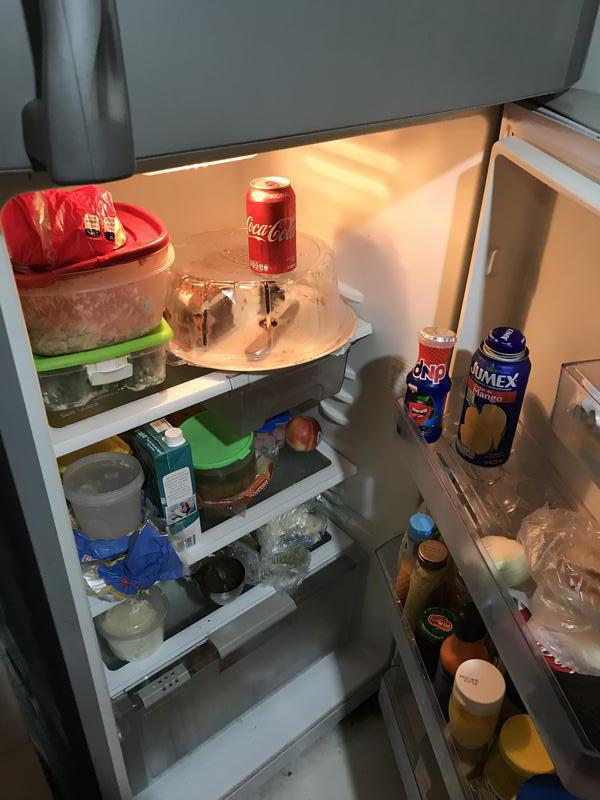coca_cola: (245, 175, 299, 277)
danup: (402, 325, 452, 445)
jugo_jumex: (460, 327, 532, 469)
